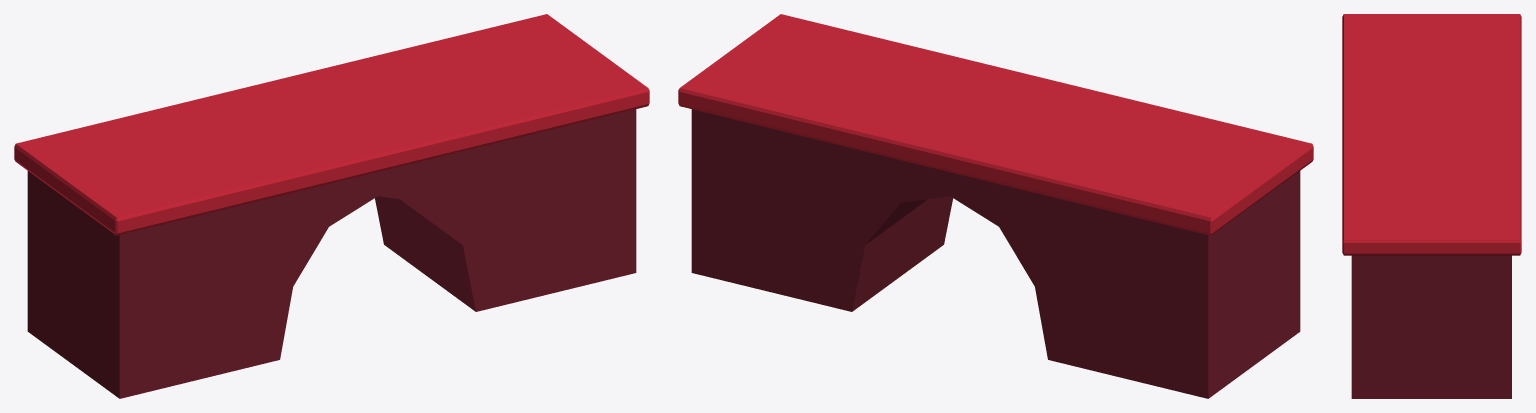
The model's file is ark_top_001_msh (1).fbx.
3 renders of one model, left to right at view 1: azimuth 30°, elevation 25°; view 2: azimuth 150°, elevation 25°; view 3: azimuth 270°, elevation 25°, orthographic. The views are drawn at different scales.
Parts seen in each view (by area): view 1: ark_top_001_msh; view 2: ark_top_001_msh; view 3: ark_top_001_msh.
Part boxes in pixels (left/top/right/bottom): ark_top_001_msh: left=14, top=14, right=649, bottom=398; ark_top_001_msh: left=678, top=14, right=1313, bottom=398; ark_top_001_msh: left=1342, top=14, right=1521, bottom=398.
Bounding box in the file's own units: 600 × 200 × 200.
